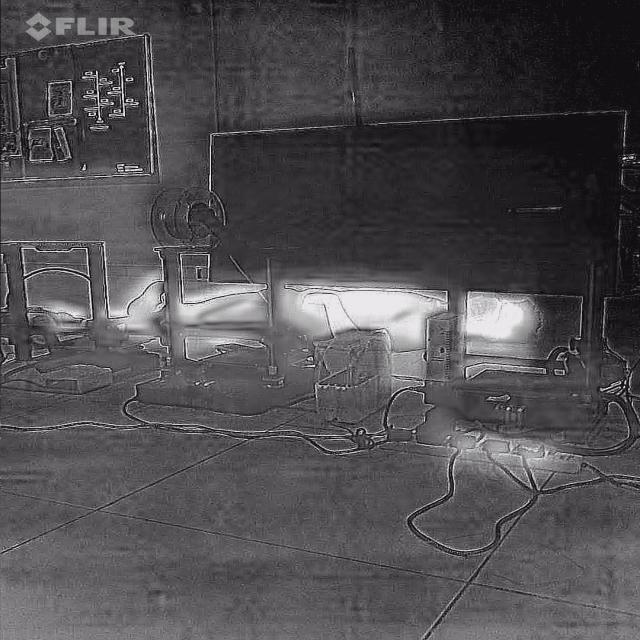Victim: (13, 277, 543, 353)
